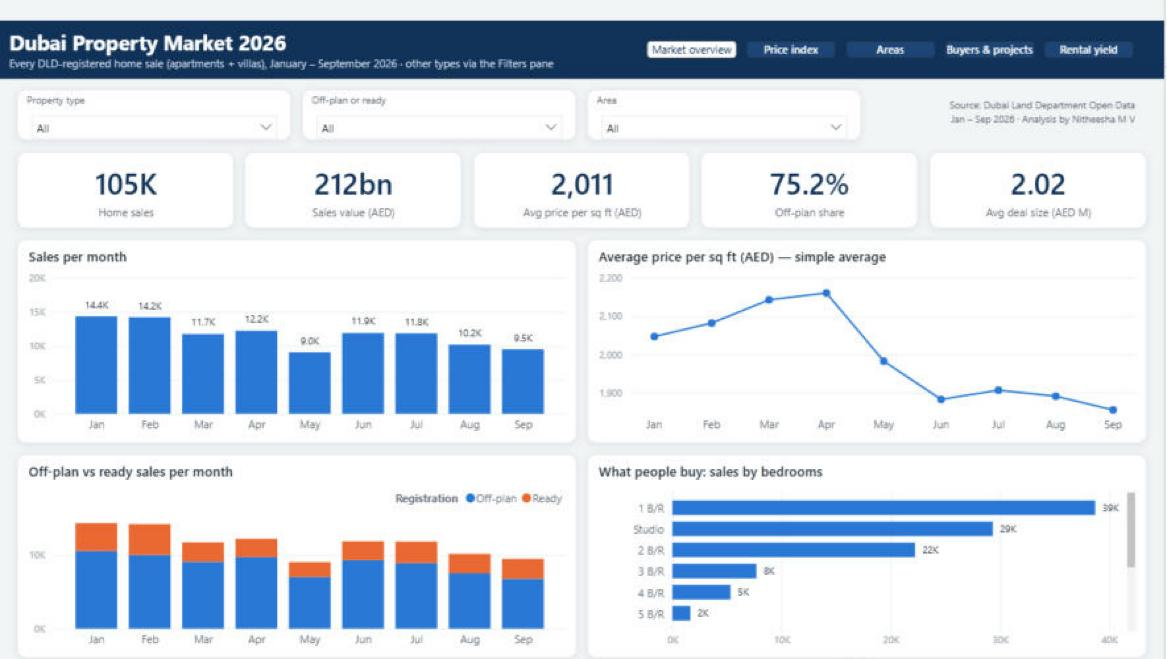

The page's visual inventory and layout, read from the dashboard file:
{"tool":"powerbi","page":{"name":"Market overview","canvas":[1280,720],"ordinal":0},"visuals":[{"type":"textbox","box":[0,0,1280,64],"z":1000},{"type":"pageNavigator","box":[700,14,560,36],"z":2000},{"type":"slicer","title":"Property type","fields":{"Values":["dim_property.segment"]},"box":[20,76,301,56],"z":3000},{"type":"slicer","title":"Off-plan or ready","fields":{"Values":["fact_sales.registration"]},"box":[333,76,301,56],"z":4000},{"type":"slicer","title":"Area","fields":{"Values":["dim_area.area"]},"box":[646,76,301,56],"z":5000},{"type":"textbox","box":[959,76,301,56],"z":6000},{"type":"card","fields":{"Values":["_Measures.Sales"]},"box":[20,144,238,84],"z":7000},{"type":"card","fields":{"Values":["_Measures.Sales Value (AED)"]},"box":[270,144,238,84],"z":8000},{"type":"card","fields":{"Values":["_Measures.Avg Price per Sq Ft"]},"box":[521,144,238,84],"z":9000},{"type":"card","fields":{"Values":["_Measures.Off-plan Share %"]},"box":[771,144,238,84],"z":10000},{"type":"card","fields":{"Values":["_Measures.Avg Deal (AED M)"]},"box":[1022,144,238,84],"z":11000},{"type":"clusteredColumnChart","title":"Sales per month","fields":{"Category":["dim_date.month_name"],"Y":["_Measures.Sales"]},"box":[20,240,614,224],"z":12000},{"type":"lineChart","title":"Average price per sq ft (AED) — simple average","fields":{"Category":["dim_date.month_name"],"Y":["_Measures.Avg Price per Sq Ft"]},"box":[646,240,614,224],"z":13000},{"type":"columnChart","title":"Off-plan vs ready sales per month","fields":{"Category":["dim_date.month_name"],"Series":["fact_sales.registration"],"Y":["_Measures.Sales"]},"box":[20,476,614,224],"z":14000},{"type":"clusteredBarChart","title":"What people buy: sales by bedrooms","fields":{"Category":["dim_property.rooms"],"Y":["_Measures.Sales"]},"box":[646,476,614,224],"z":15000}]}

Visuals, with their boxes in screenshot pixels (x1, y1, x2, y2), scaled from the page's 1280x720 canvas onto the 1167x659 screenshot:
textbox: [0, 0, 1166, 59]
pageNavigator: [638, 13, 1149, 46]
"Property type" slicer: [18, 70, 293, 121]
"Off-plan or ready" slicer: [304, 70, 578, 121]
"Area" slicer: [589, 70, 863, 121]
textbox: [874, 70, 1149, 121]
card - _Measures.Sales: [18, 132, 235, 209]
card - _Measures.Sales Value (AED): [246, 132, 463, 209]
card - _Measures.Avg Price per Sq Ft: [475, 132, 692, 209]
card - _Measures.Off-plan Share %: [703, 132, 920, 209]
card - _Measures.Avg Deal (AED M): [932, 132, 1149, 209]
"Sales per month" clusteredColumnChart: [18, 220, 578, 425]
"Average price per sq ft (AED) — simple average" lineChart: [589, 220, 1149, 425]
"Off-plan vs ready sales per month" columnChart: [18, 436, 578, 641]
"What people buy: sales by bedrooms" clusteredBarChart: [589, 436, 1149, 641]
